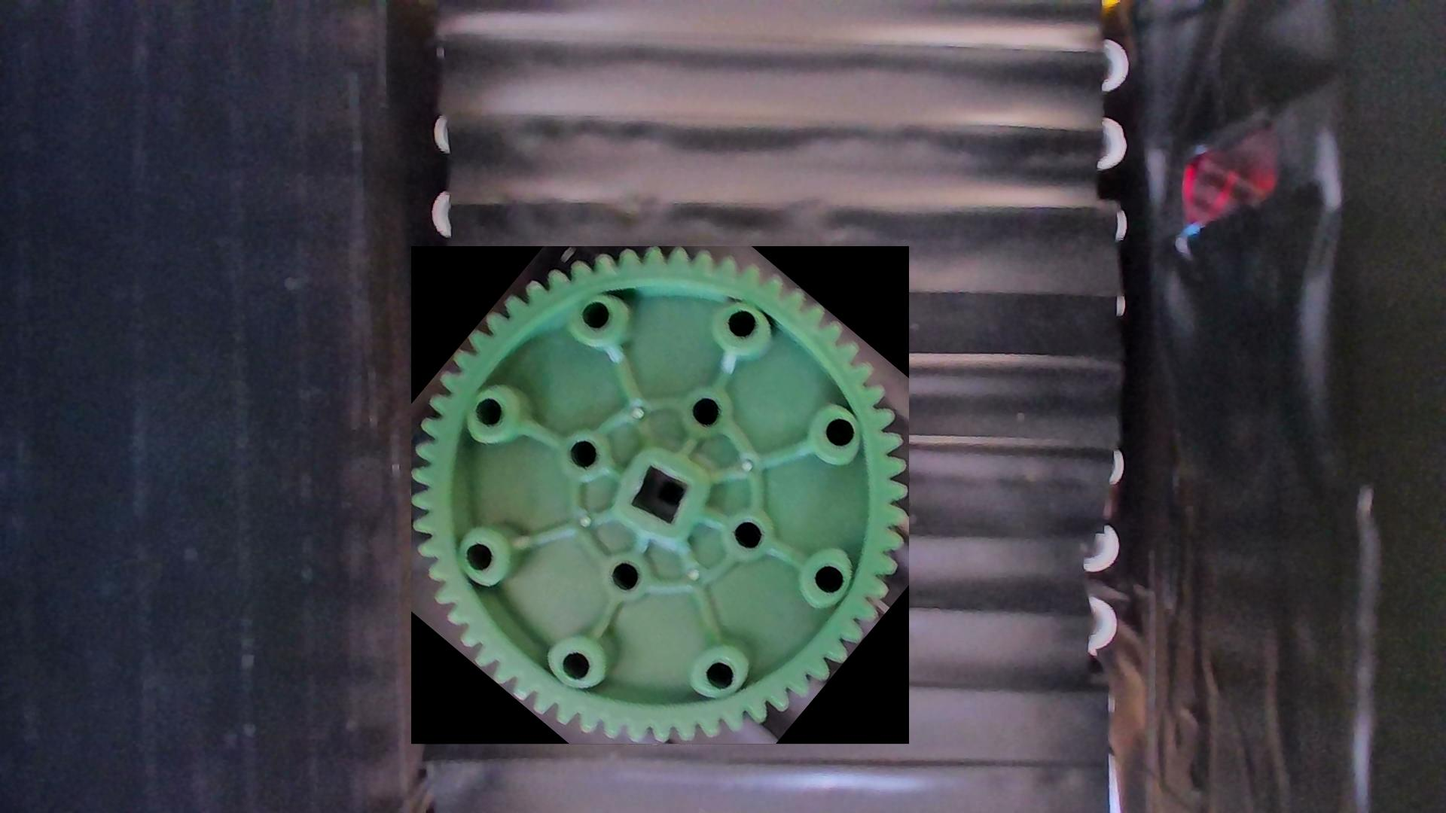gear: (411, 247, 909, 745)
